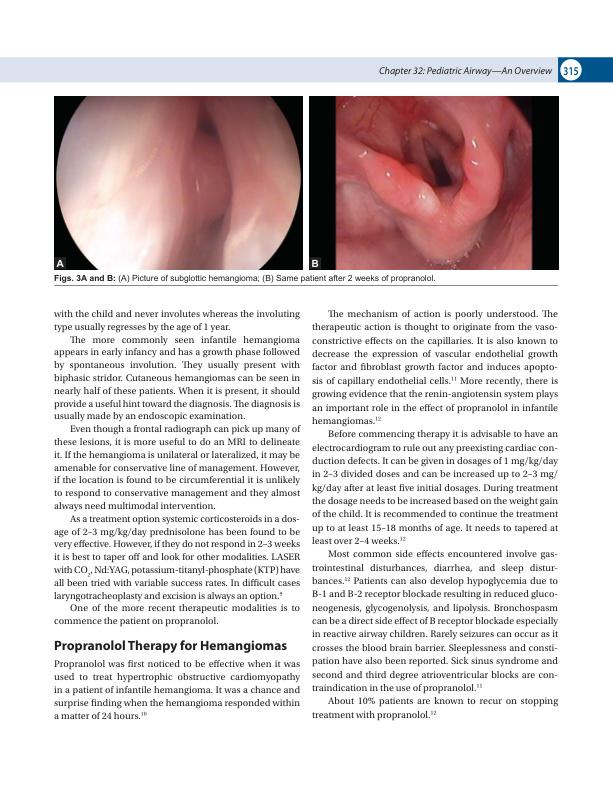caption: (53, 273, 436, 284), (56, 259, 64, 268), (311, 259, 319, 268)
header: (378, 66, 553, 77)
image: (53, 95, 304, 271), (308, 95, 559, 270)
sub-section-heading: (53, 639, 288, 655)
text: (309, 308, 559, 722), (52, 308, 301, 628), (52, 658, 300, 721)
